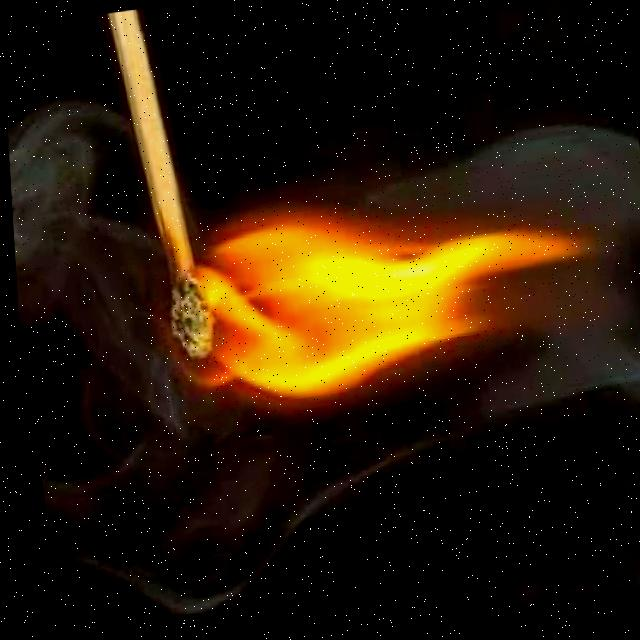Fire: (149, 148, 605, 422)
